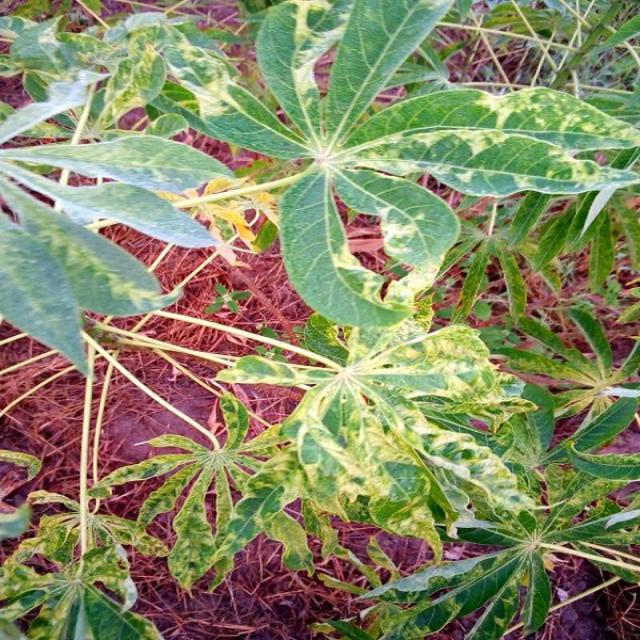cassava leaf: (2, 0, 640, 637)
